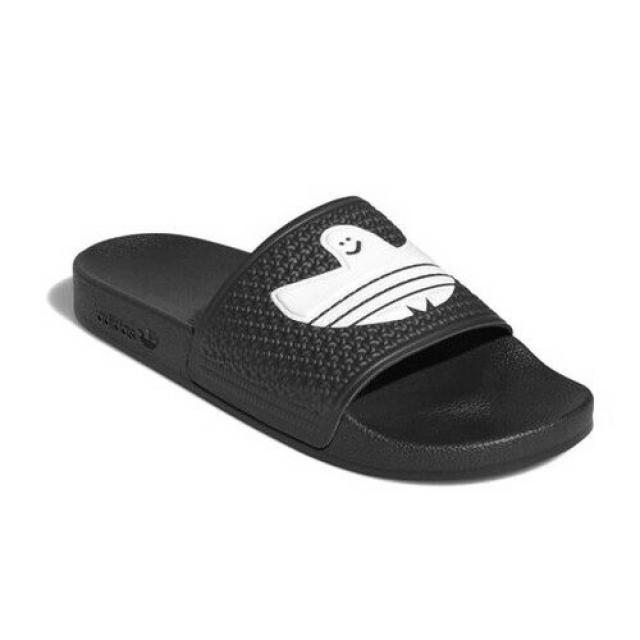Adidas: (265, 204, 472, 337)
